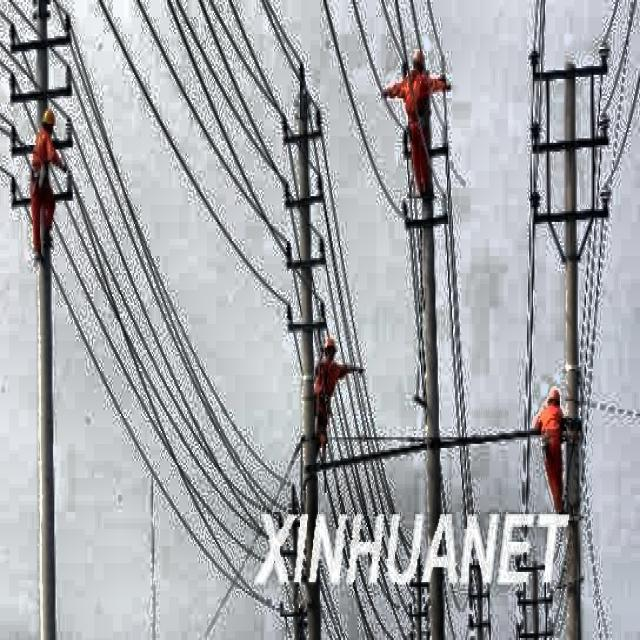helmet: (41, 102, 58, 143), (320, 333, 338, 371), (409, 47, 427, 79), (546, 386, 562, 418)
